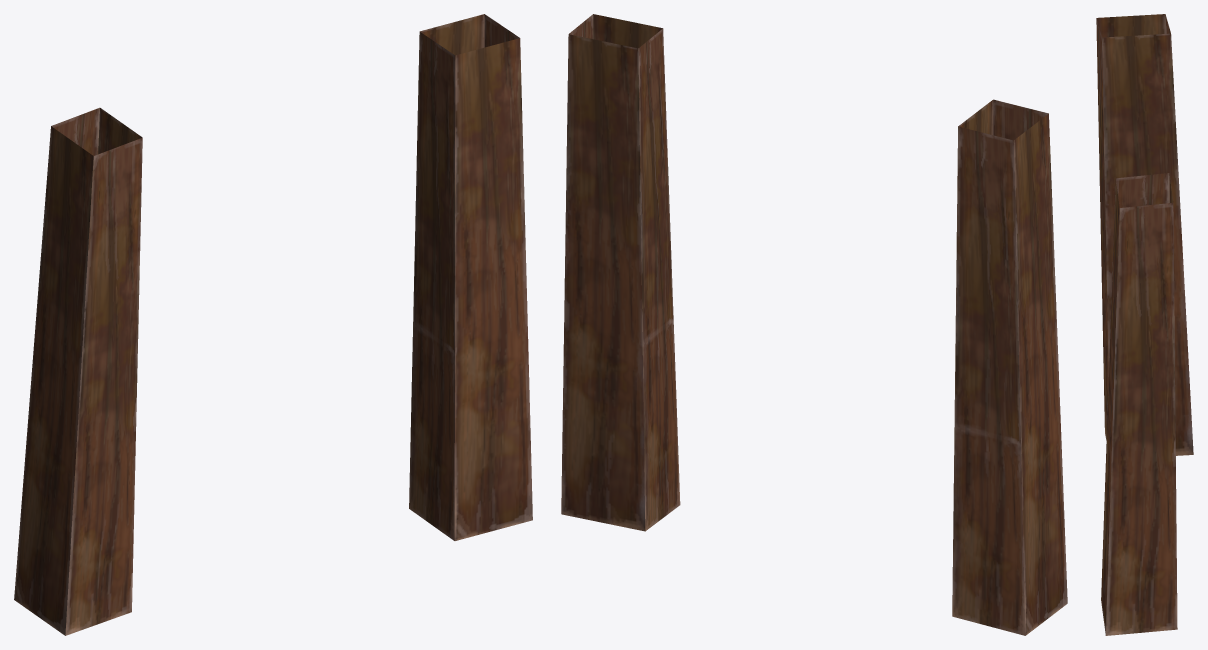
Rendered from pilar_wood2x.fbx.
3 views of the same model, side by side, from view 1: azimuth 30°, elevation 25°; view 2: azimuth 150°, elevation 25°; view 3: azimuth 270°, elevation 25° (orthographic). The views are drawn at different scales.
Parts seen in each view (by area): view 1: pilar_madeira2x; view 2: pilar_madeira2x; view 3: pilar_madeira2x.
Part boxes in pixels (box(x1,y1,x2,y2)): pilar_madeira2x: box(14, 14, 532, 635); pilar_madeira2x: box(561, 14, 1067, 635); pilar_madeira2x: box(1096, 14, 1193, 635).
Size of the model in its own units: 159 by 156 by 31.81.
